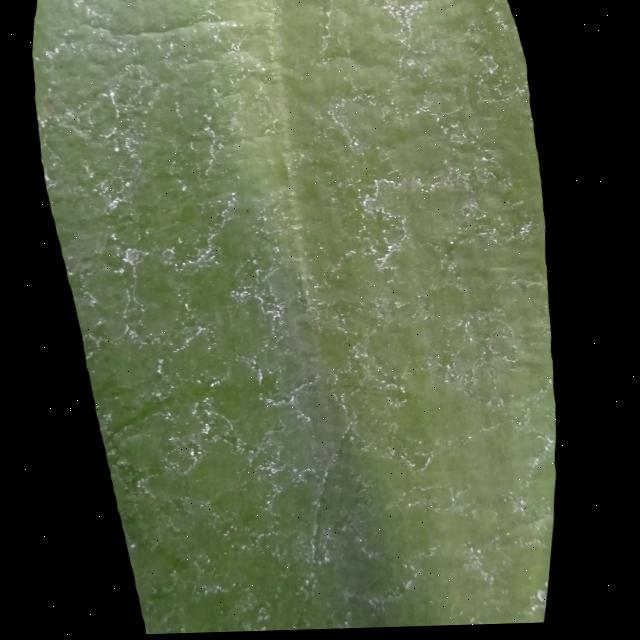mite: (318, 324, 359, 376), (234, 197, 272, 233), (443, 60, 466, 81), (242, 203, 259, 220), (136, 542, 147, 553), (246, 207, 256, 217)
